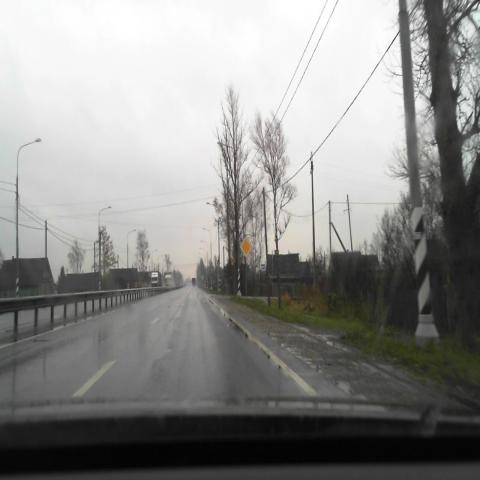2_1: (240, 235, 252, 257)
